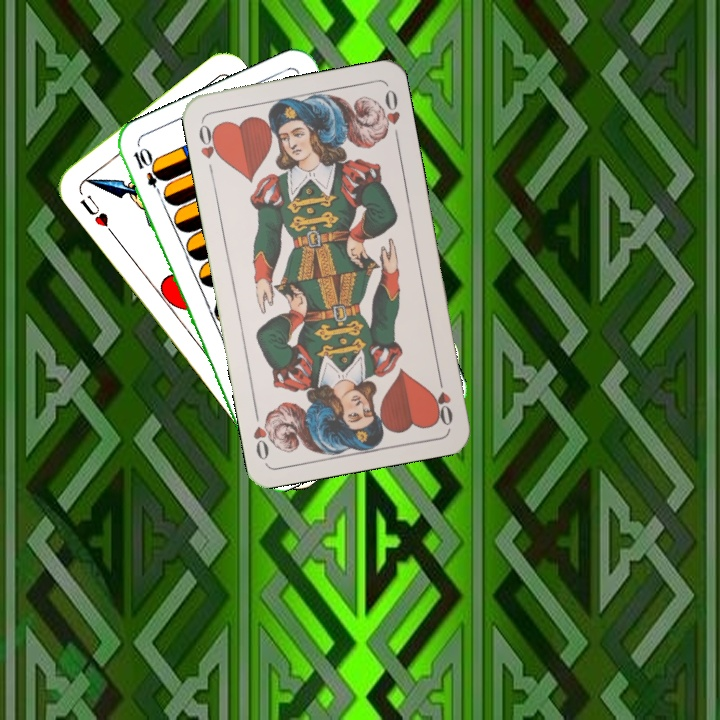E10: (129, 144, 167, 201)
HO: (195, 118, 224, 177), (429, 370, 456, 429)
HU: (75, 190, 117, 238)
